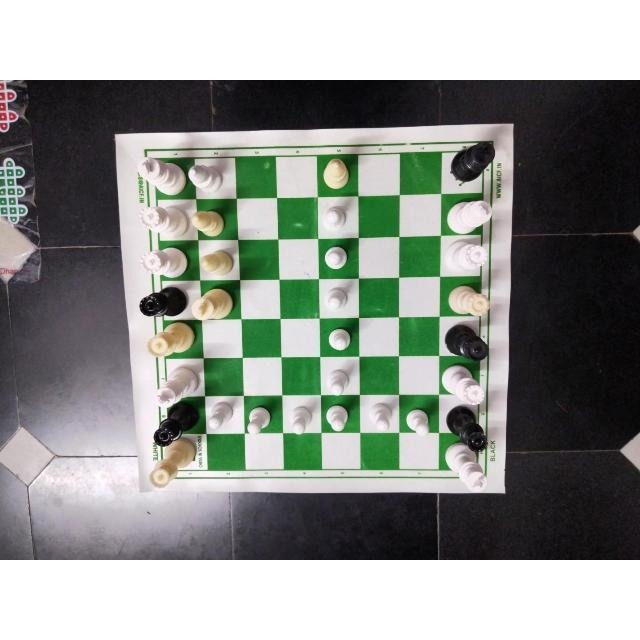black-king: (449, 137, 498, 181)
black-queen: (441, 322, 490, 363), (152, 403, 196, 448), (444, 404, 486, 449), (138, 285, 188, 319)
white-bishop: (319, 155, 354, 195), (197, 246, 237, 276), (188, 163, 224, 195), (191, 205, 225, 237)
white-king: (444, 443, 487, 493), (445, 193, 497, 234), (152, 364, 198, 408), (138, 157, 188, 193), (192, 285, 236, 321)
white-pawn: (205, 401, 237, 433), (285, 406, 315, 438), (325, 322, 353, 356), (367, 401, 395, 435), (244, 405, 270, 441), (326, 365, 354, 397), (405, 408, 433, 440), (320, 203, 349, 231), (322, 286, 349, 315), (327, 408, 353, 436), (321, 246, 349, 271)
white-queen: (146, 439, 197, 491), (439, 364, 487, 406), (138, 243, 194, 279), (442, 281, 494, 316), (148, 322, 196, 358), (137, 203, 190, 234), (444, 236, 490, 271)
